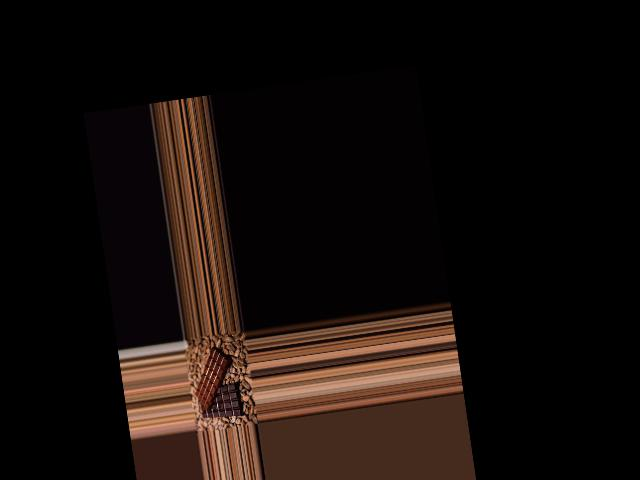chocolate: (196, 382, 246, 425)
